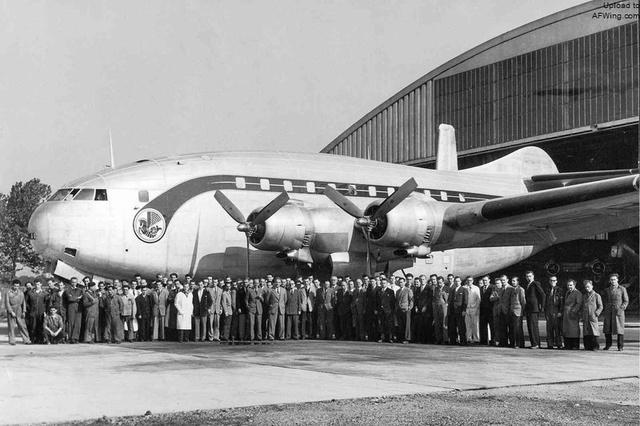airplane: (33, 119, 640, 285)
